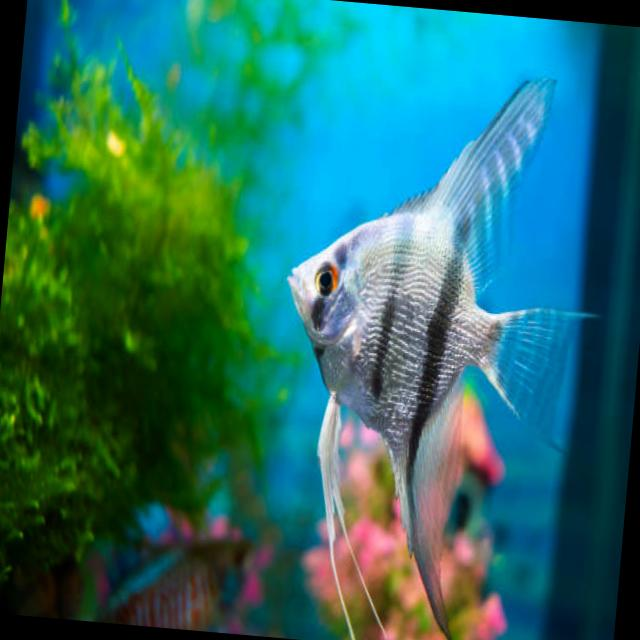AngelFish: (252, 63, 601, 640)
